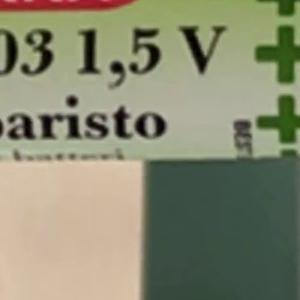ALK: (68, 16, 237, 84)
